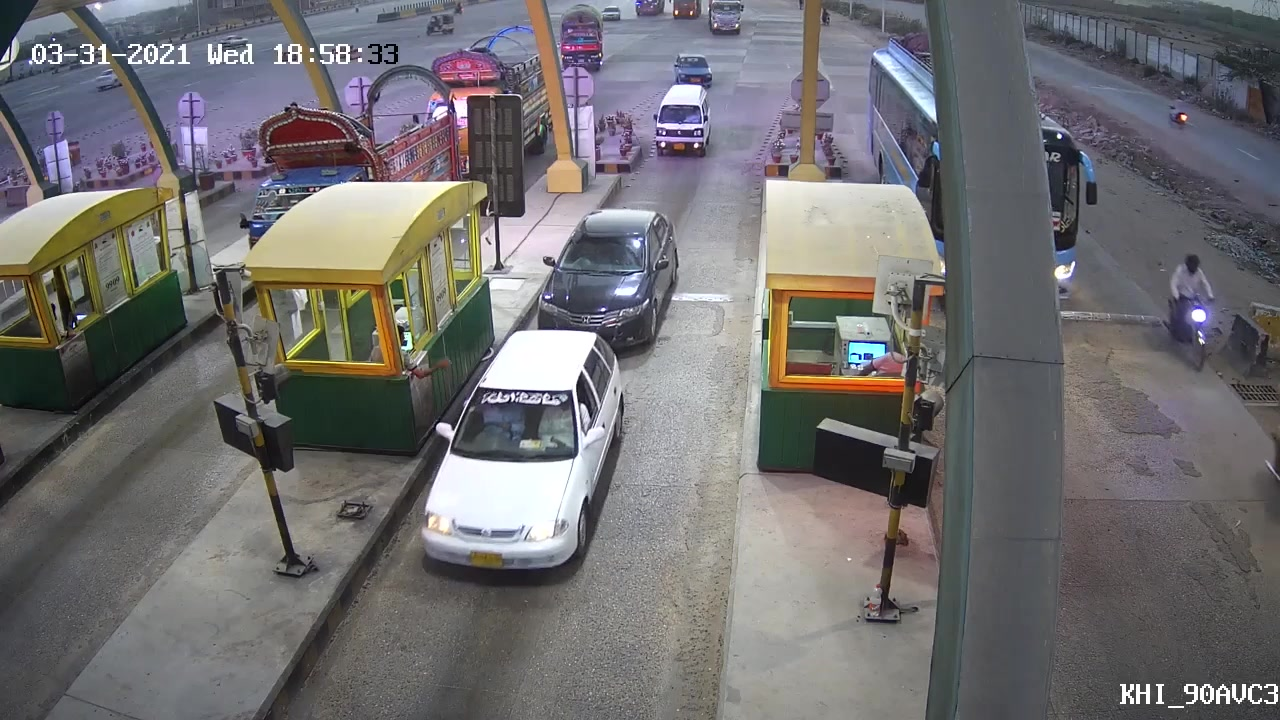F1: (415, 325, 627, 579), (532, 194, 693, 348)
